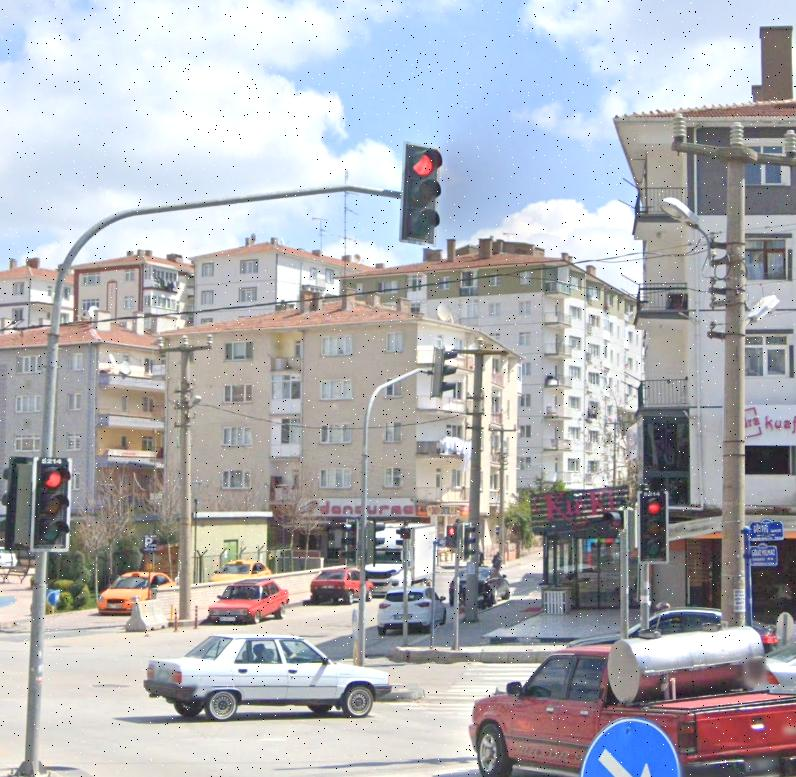redlight: (406, 141, 442, 241), (35, 460, 68, 547), (641, 491, 666, 559)
